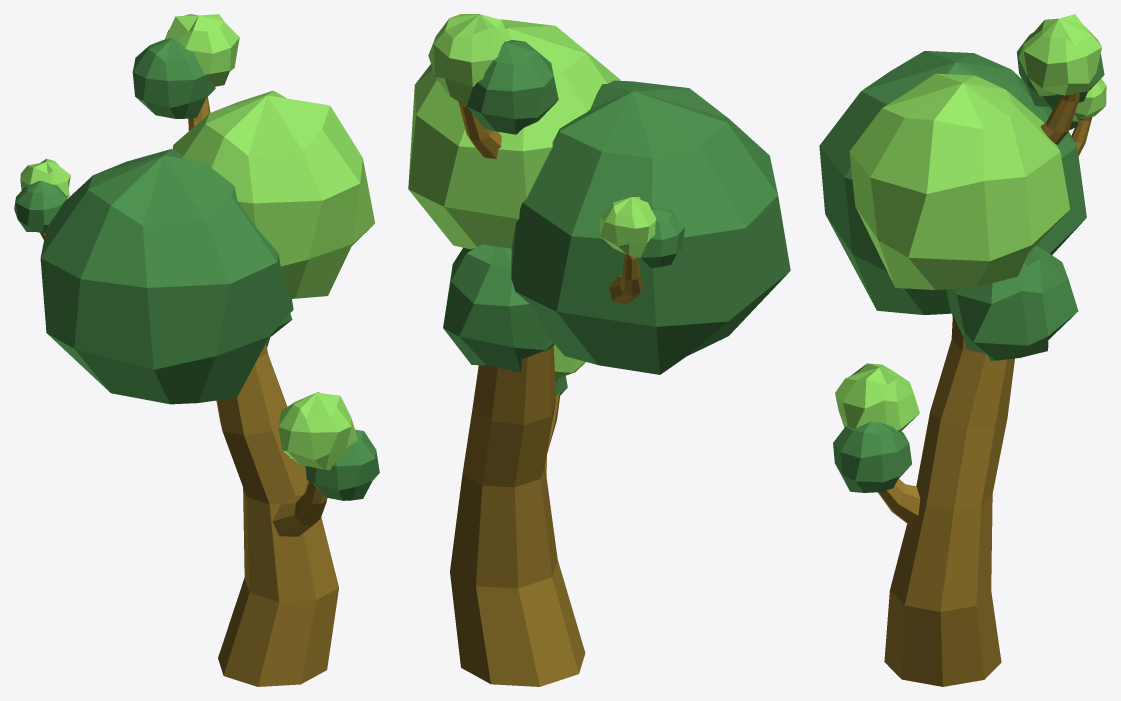
File: tree2.glb
3 renders of one model, left to right at view 1: azimuth 30°, elevation 25°; view 2: azimuth 150°, elevation 25°; view 3: azimuth 270°, elevation 25°, orthographic. The views are drawn at different scales.
Visible parts, largest first — view 1: Circle_Material.003_0; view 2: Circle_Material.003_0; view 3: Circle_Material.003_0.
Boxes of the visible parts, x1=… form: Circle_Material.003_0: x1=14, y1=14, x2=379, y2=686; Circle_Material.003_0: x1=408, y1=14, x2=790, y2=686; Circle_Material.003_0: x1=819, y1=14, x2=1106, y2=686.
Size of the model in its own units: 6.18 by 11.96 by 4.9.
